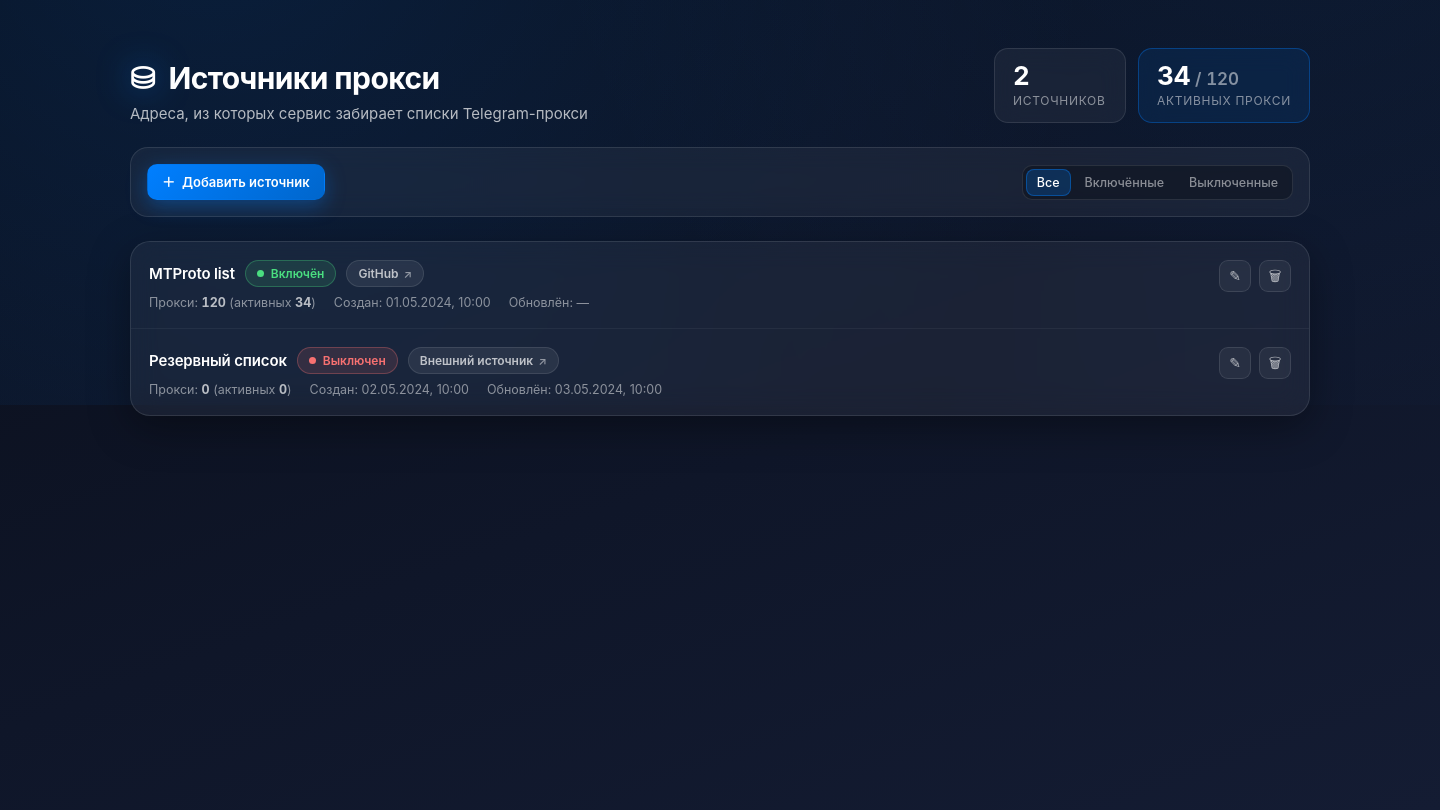
Test: добавление источника › не отправляет форму с невалидным адресом
Check: the text "MTProto list" is shown, box [149,264,235,283]
Click the button titled "Добавить источник": (236, 182) [147,164,325,200]
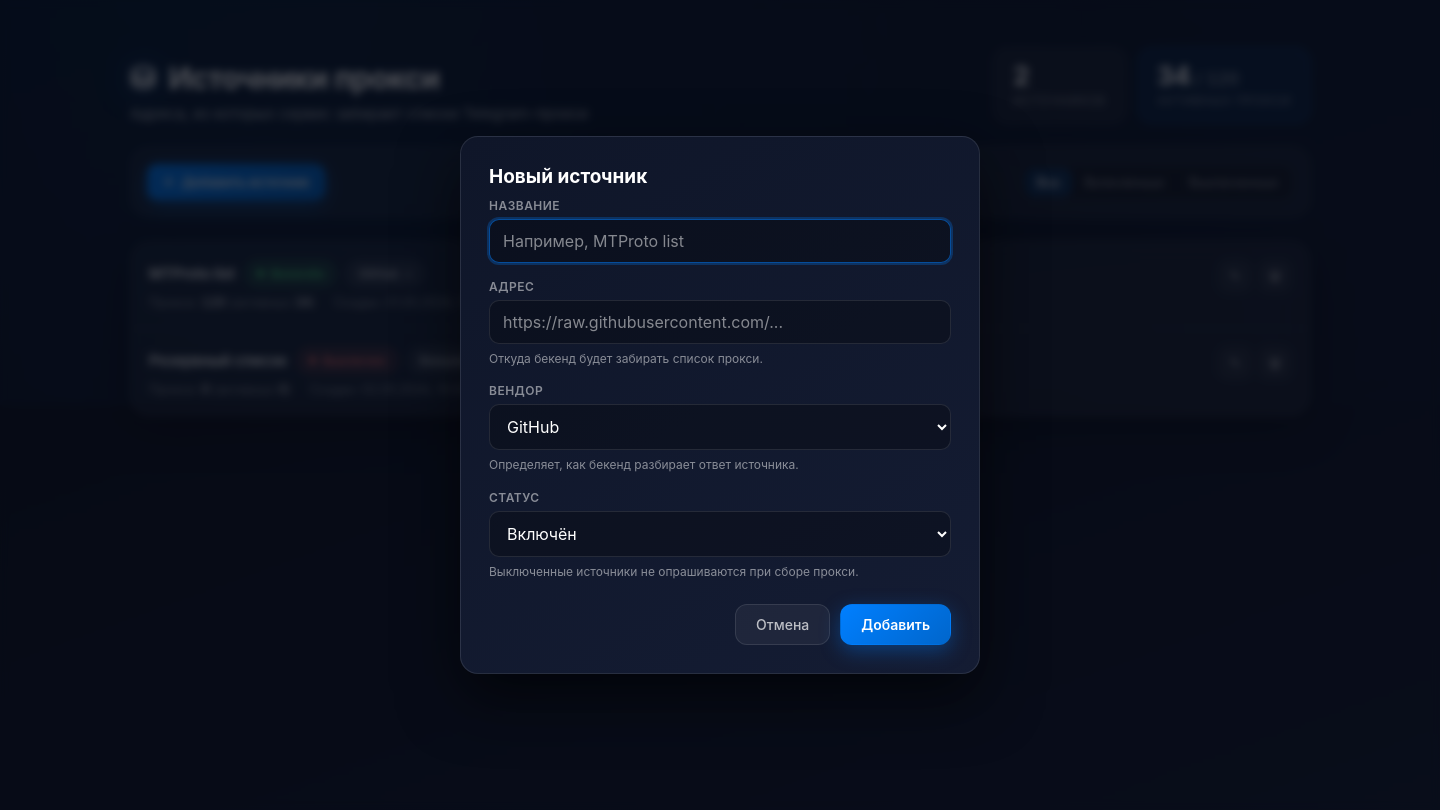
In the field labelled "Название": (720, 241) [489,219,951,263], type "Источник"
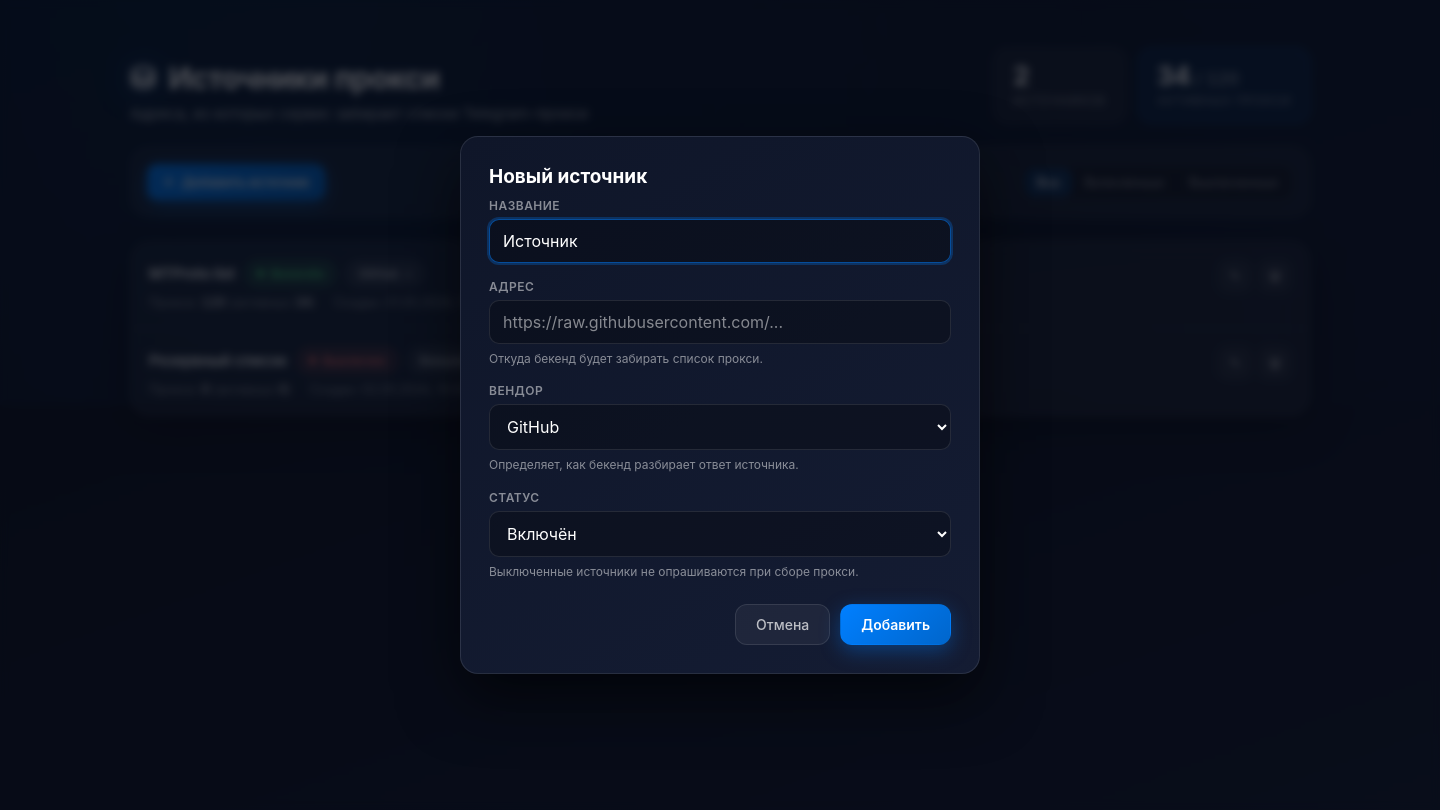
In the field labelled "Адрес": (720, 322) [489,300,951,344], type "просто текст"
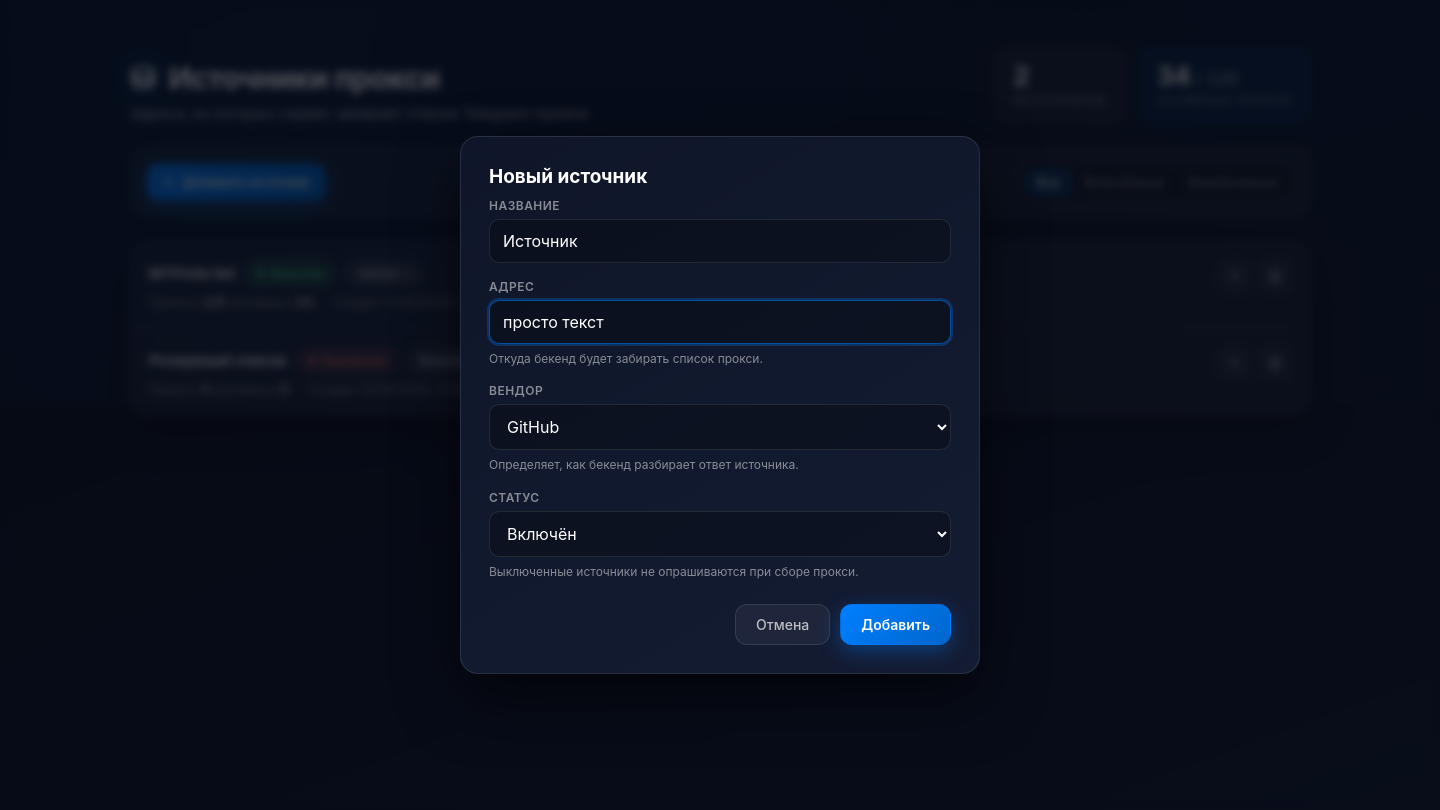
Click the button "Добавить": (896, 625) [840,604,951,645]
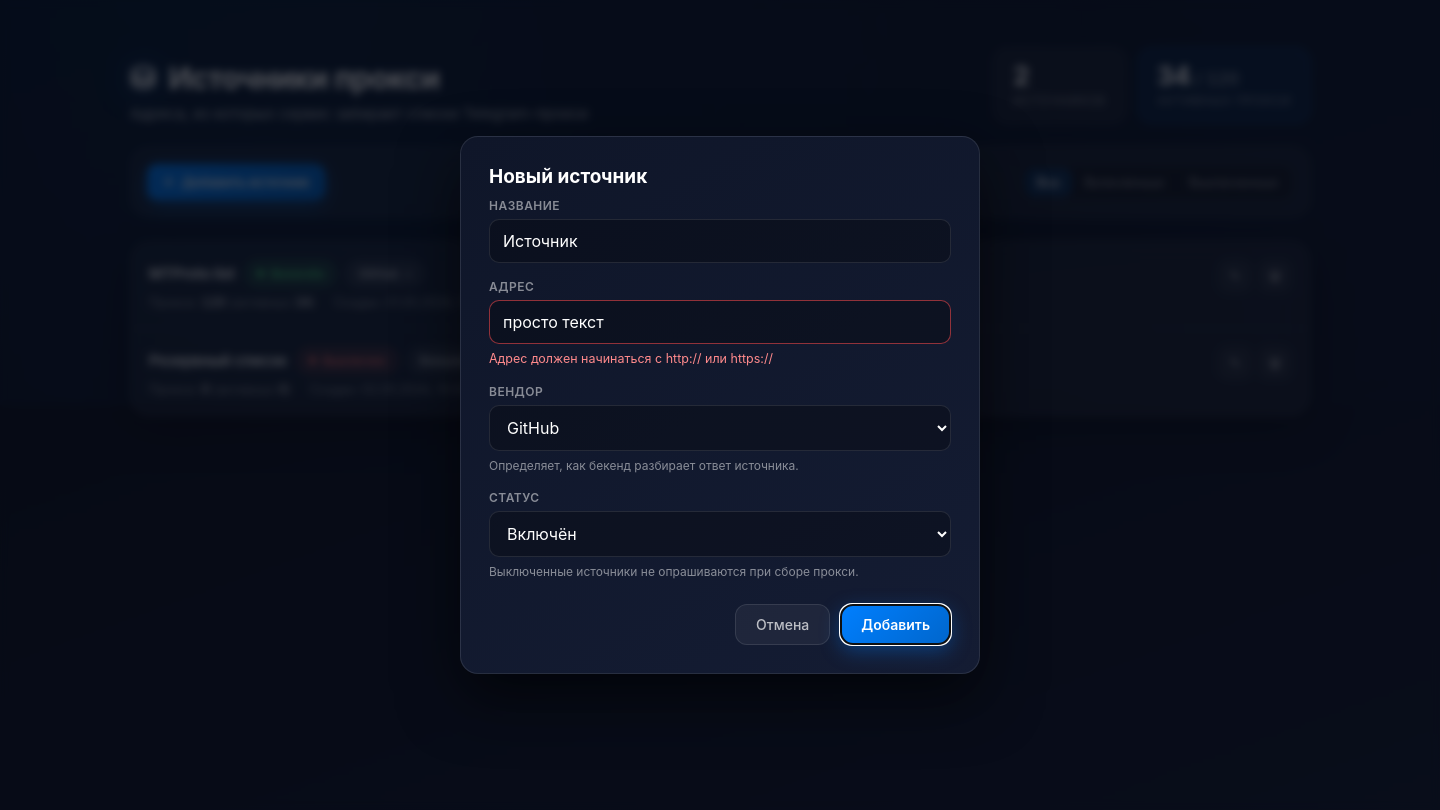
Check: the text "Адрес должен начинаться с http:// или https://" is shown, box [489,350,773,366]
